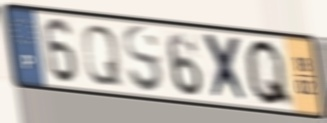6: (41, 16, 82, 87), (164, 30, 204, 98)
Q: (243, 37, 296, 111), (80, 23, 124, 88)
S: (121, 23, 166, 97)
X: (201, 30, 252, 107)
